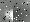person: (7, 10, 13, 22)
